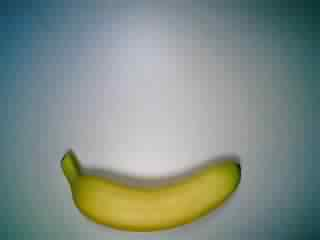banana: (58, 145, 249, 235)
